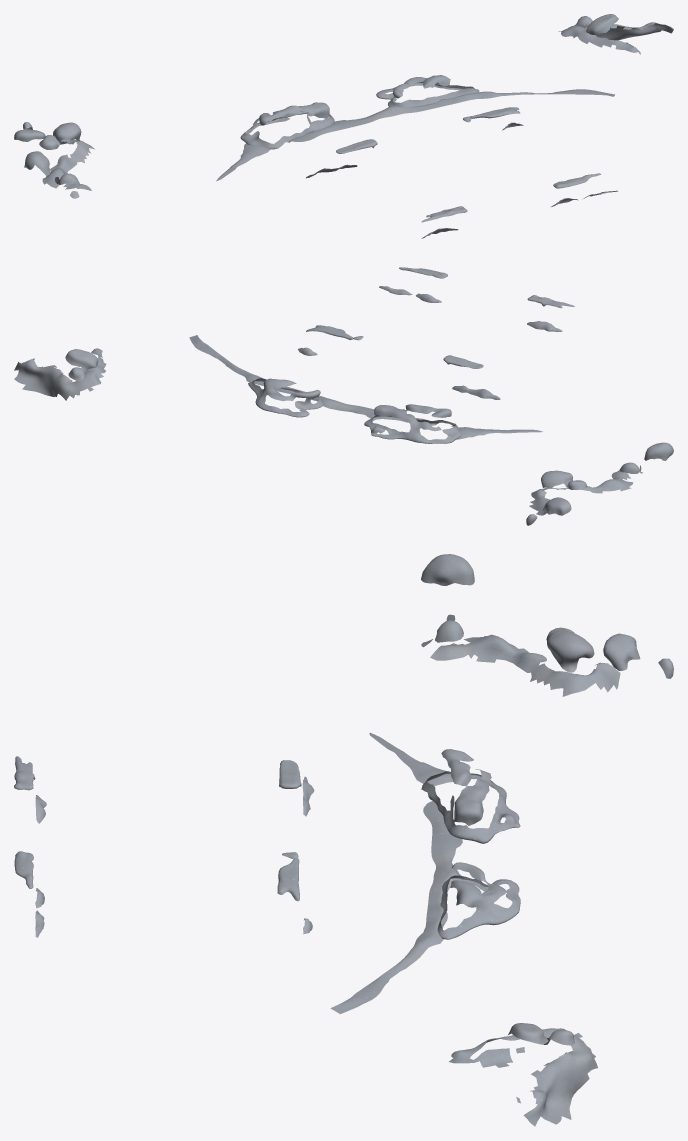
Rendered from pref_Area_Winter_down_snow_lv3.fbx.
3 views of the same model, one above another, from view 1: azimuth 30°, elevation 25°; view 2: azimuth 150°, elevation 25°; view 3: azimuth 270°, elevation 25° (orthographic). The views are drawn at different scales.
Parts seen in each view (by area): view 1: pref_sm_beach_winter_snowrock01_lv3, pref_sm_beach_winter_sandsnow_lv3, pref_sm_beach_winter_bottom_bottomsnow01_lv3, pref_sm_beach_winter_snowrock02_lv3, pref_sm_beach_winter_snow17_lv3, pref_sm_beach_winter_snow12_lv3; view 2: pref_sm_beach_winter_snowrock01_lv3, pref_sm_beach_winter_sandsnow_lv3, pref_sm_beach_winter_snowrock02_lv3, pref_sm_beach_winter_bottom_bottomsnow01_lv3, pref_sm_beach_winter_snow12_lv3, pref_sm_beach_winter_snow17_lv3; view 3: pref_sm_beach_winter_sandsnow_lv3, pref_sm_beach_winter_snowrock01_lv3, pref_sm_beach_winter_snowrock02_lv3, pref_sm_beach_winter_bottom_bottomsnow01_lv3, pref_sm_beach_winter_snow17_lv3, pref_sm_beach_winter_snow12_lv3.
Boxes of the visible parts, <box> form: pref_sm_beach_winter_snowrock01_lv3: <box>240,75,479,149</box>; pref_sm_beach_winter_sandsnow_lv3: <box>42,22,673,190</box>; pref_sm_beach_winter_bottom_bottomsnow01_lv3: <box>216,89,614,181</box>; pref_sm_beach_winter_snowrock02_lv3: <box>14,14,618,198</box>; pref_sm_beach_winter_snow17_lv3: <box>306,107,523,178</box>; pref_sm_beach_winter_snow12_lv3: <box>421,173,617,238</box>; pref_sm_beach_winter_snowrock01_lv3: <box>248,378,461,443</box>; pref_sm_beach_winter_sandsnow_lv3: <box>14,348,633,515</box>; pref_sm_beach_winter_snowrock02_lv3: <box>65,349,673,525</box>; pref_sm_beach_winter_bottom_bottomsnow01_lv3: <box>189,335,542,439</box>; pref_sm_beach_winter_snow12_lv3: <box>379,267,574,331</box>; pref_sm_beach_winter_snow17_lv3: <box>298,325,500,399</box>; pref_sm_beach_winter_sandsnow_lv3: <box>430,634,620,1126</box>; pref_sm_beach_winter_snowrock01_lv3: <box>421,749,520,939</box>; pref_sm_beach_winter_snowrock02_lv3: <box>421,554,673,1045</box>; pref_sm_beach_winter_bottom_bottomsnow01_lv3: <box>330,732,462,1014</box>; pref_sm_beach_winter_snow17_lv3: <box>277,760,314,934</box>; pref_sm_beach_winter_snow12_lv3: <box>14,756,46,937</box>.
Size of the model in its own units: 49.4 by 4.81 by 28.41.
